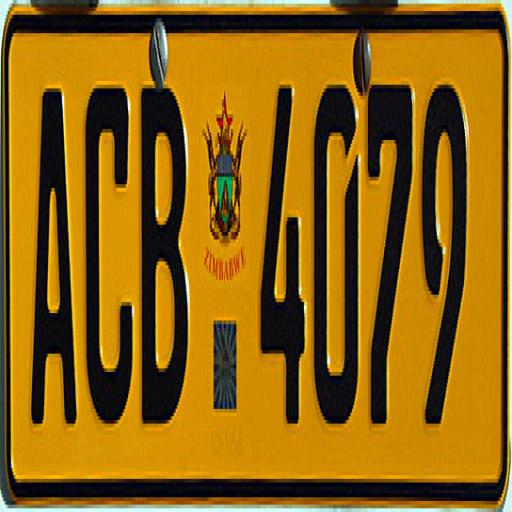number-plates: (6, 0, 492, 512)
